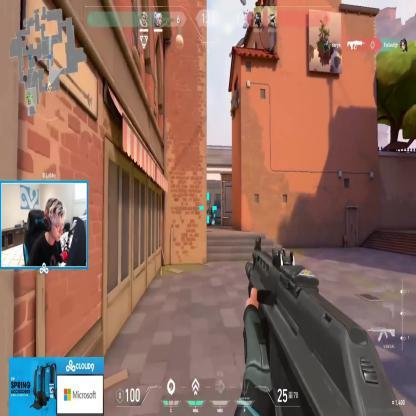enemy: (208, 206, 210, 224)
enemy_head: (208, 207, 210, 211)
